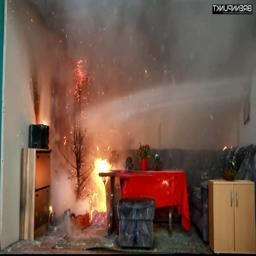fire: (78, 144, 117, 213)
